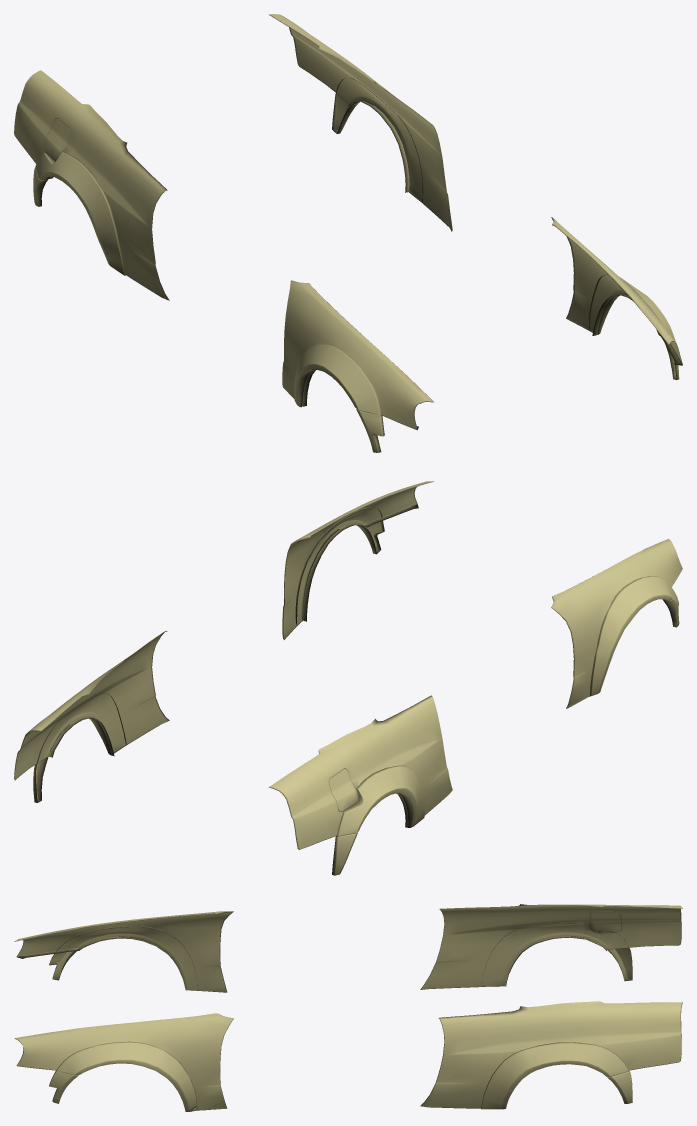
The model's file is R34_Fender03_Duco.fbx.
The picture shows the model from 3 angles, top to bottom: view 1: azimuth 30°, elevation 25°; view 2: azimuth 150°, elevation 25°; view 3: azimuth 270°, elevation 25°; orthographic projection. The views are drawn at different scales.
Visible parts, largest first — view 1: R34_Fender03_Duco; view 2: R34_Fender03_Duco; view 3: R34_Fender03_Duco.
Part boxes in pixels (left/top/right/bottom): R34_Fender03_Duco: left=14, top=14, right=682, bottom=452; R34_Fender03_Duco: left=14, top=481, right=682, bottom=875; R34_Fender03_Duco: left=14, top=904, right=682, bottom=1111.
Size of the model in its own units: 187 by 64.55 by 403.
